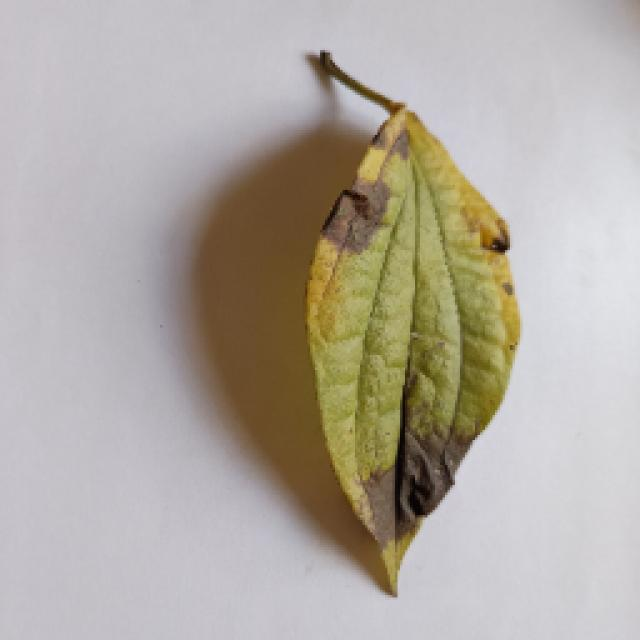slow-decline: (298, 60, 520, 600)
